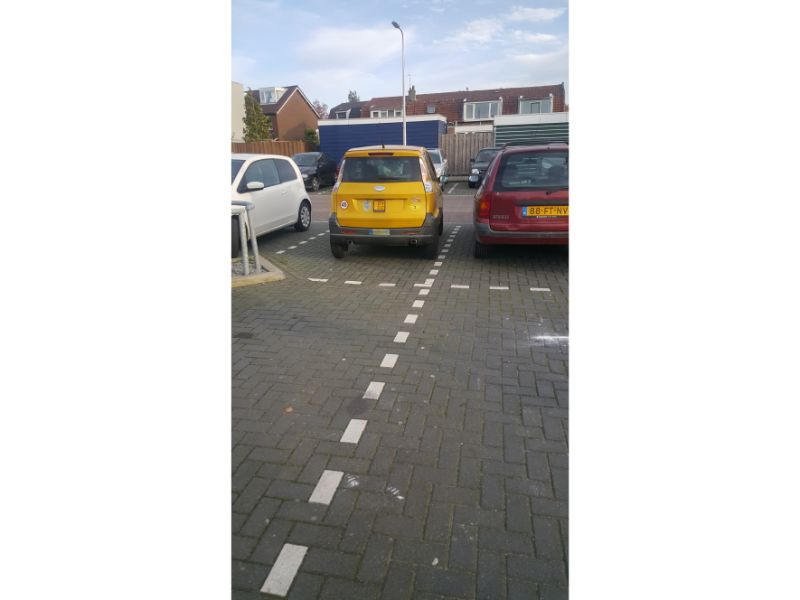kenteken: (520, 204, 568, 217)
